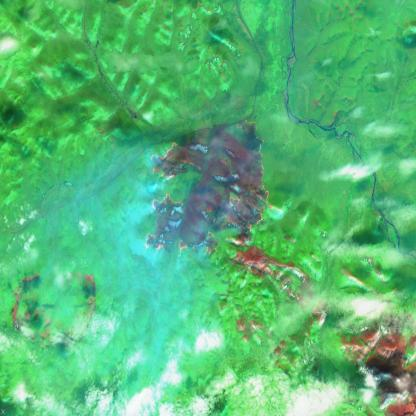fire: (140, 118, 273, 261)
